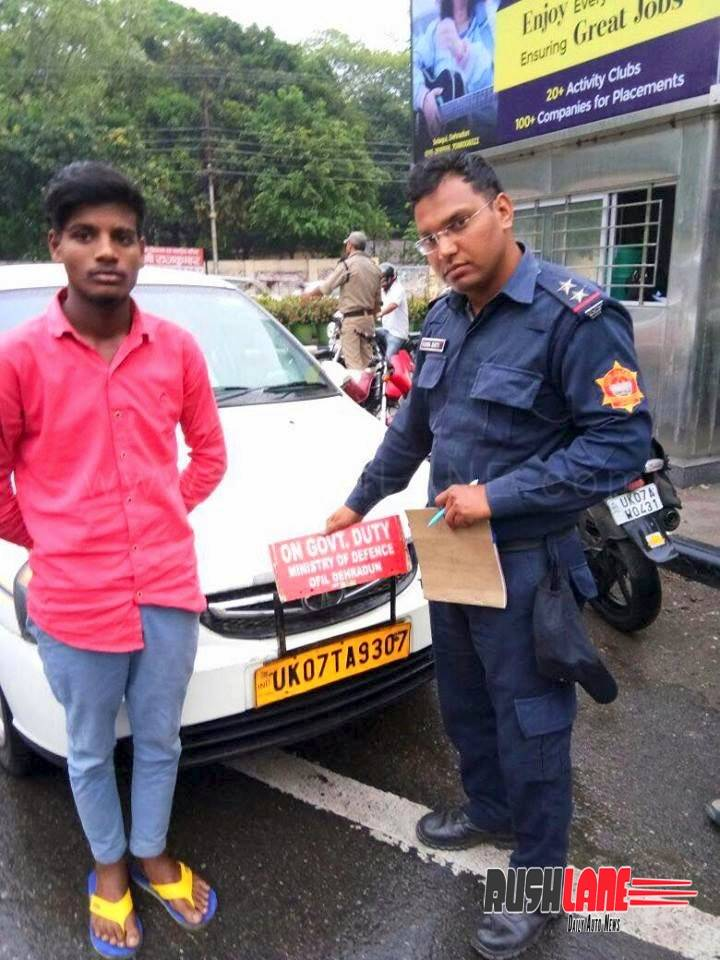number_plate: (247, 618, 419, 708)
